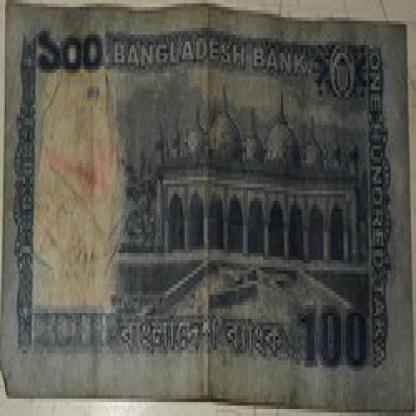one hundred taka: (295, 295, 371, 374), (35, 18, 108, 76)
